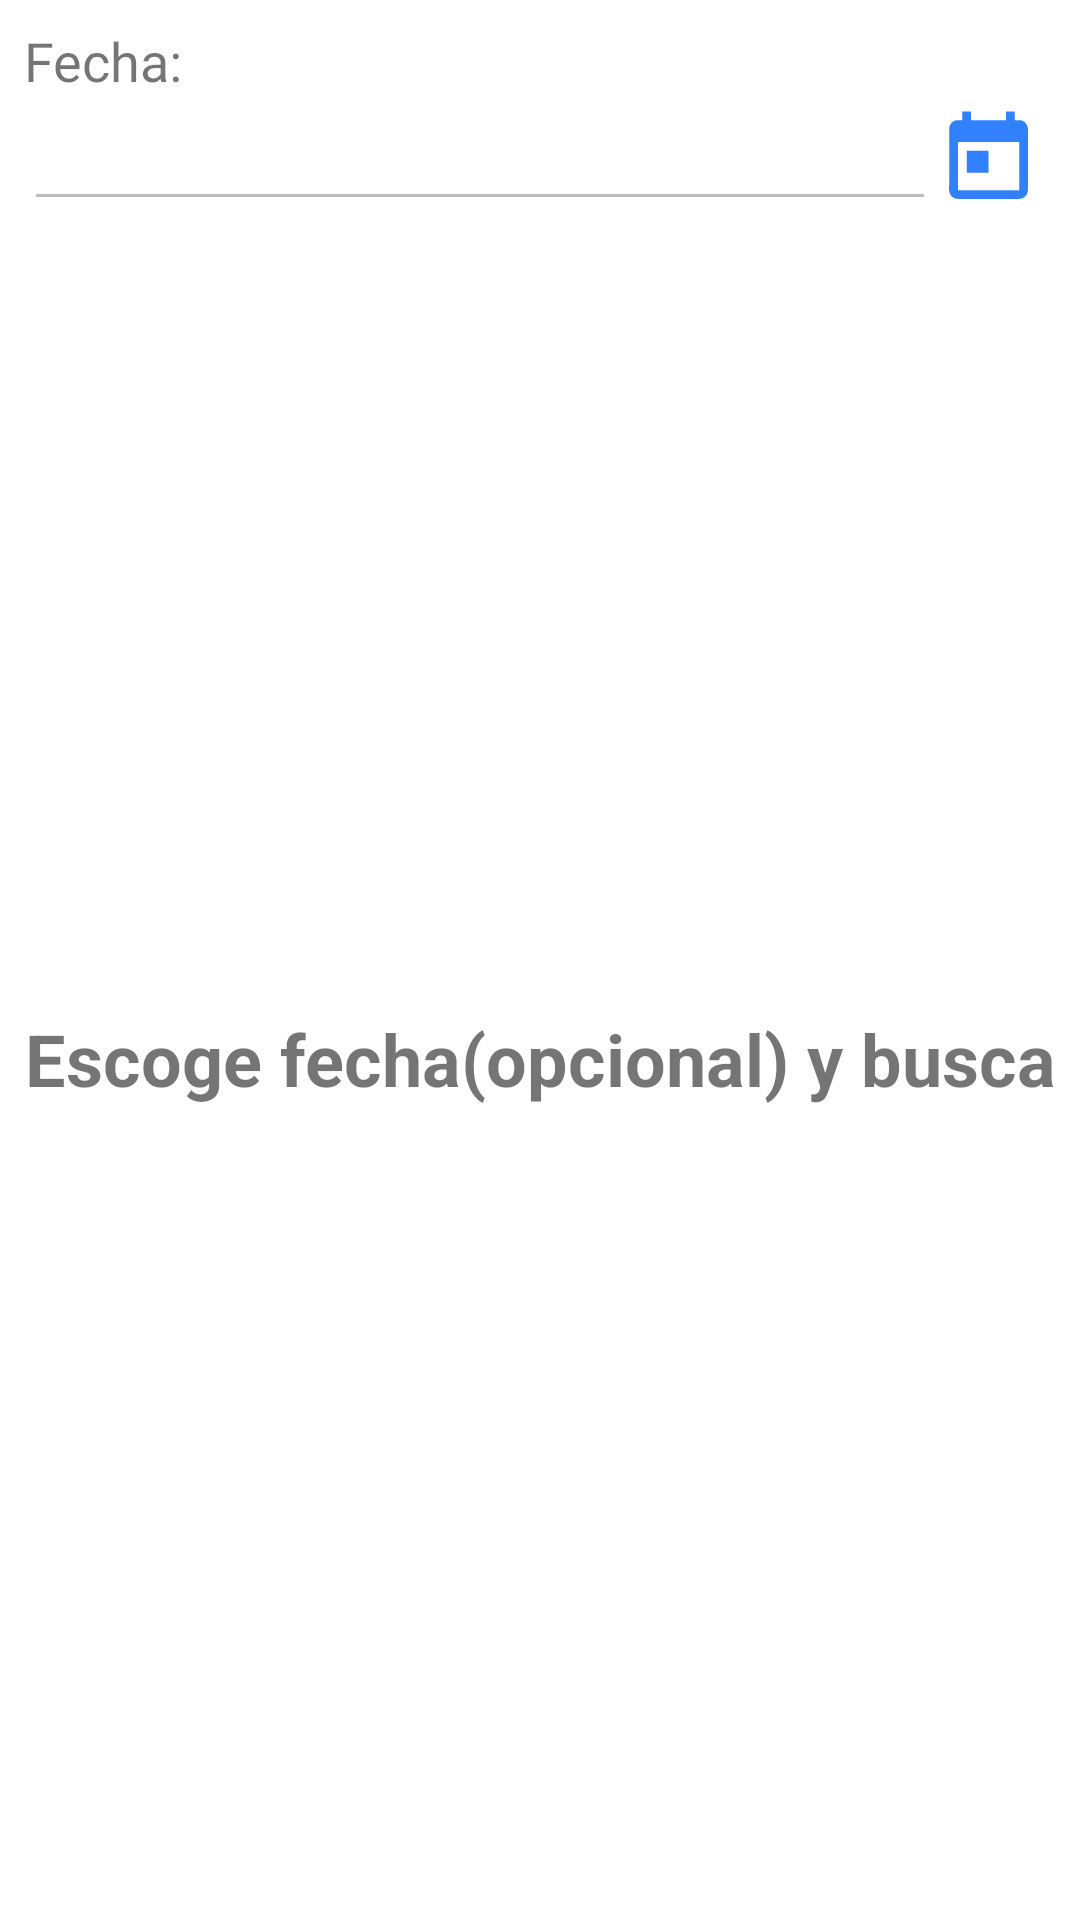

Screen size 1080×1920. Icon name, then its center in pixels as (x=x, y=y):
today: (x=988, y=155)
